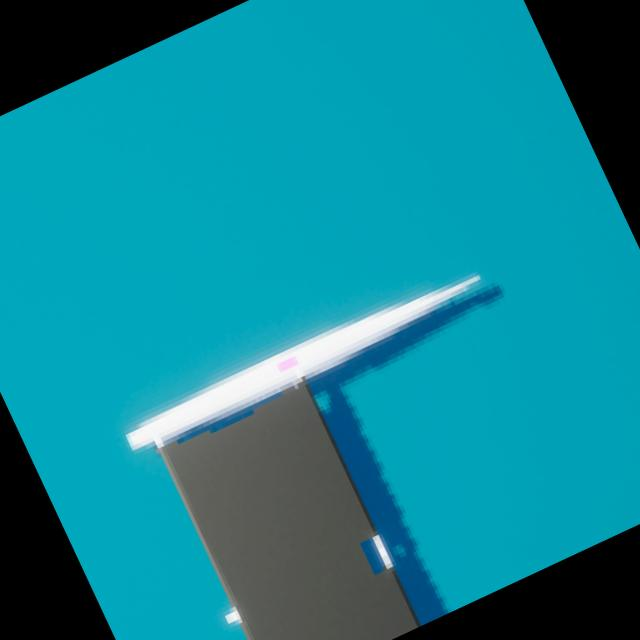boat: (95, 230, 622, 640)
drone: (162, 381, 418, 640)
